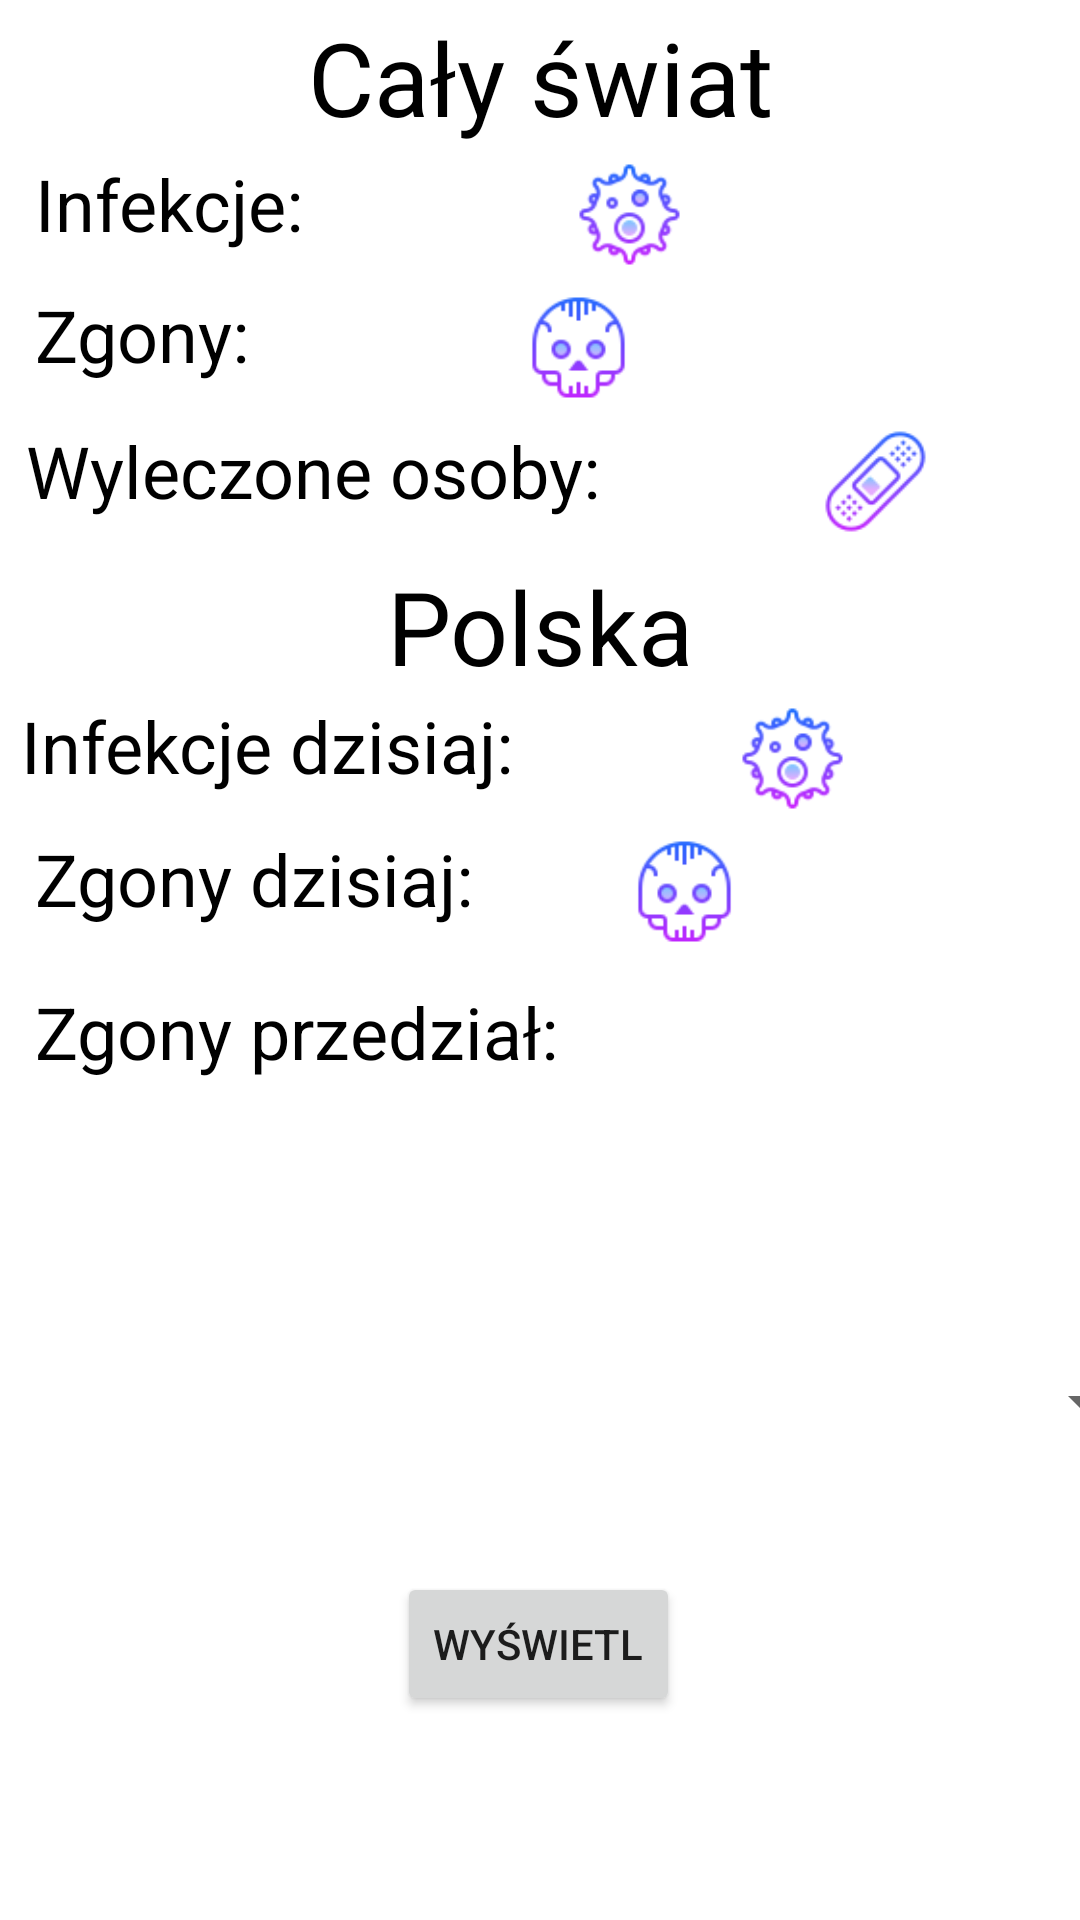

Where icons sit on this 1080 × 1920 app screen, as rect(x1, y1, x2, y2):
bandage: rect(825, 431, 926, 532)
skull: rect(532, 297, 625, 398), rect(638, 841, 731, 942)
virus: rect(579, 164, 680, 265), rect(742, 708, 843, 809)
